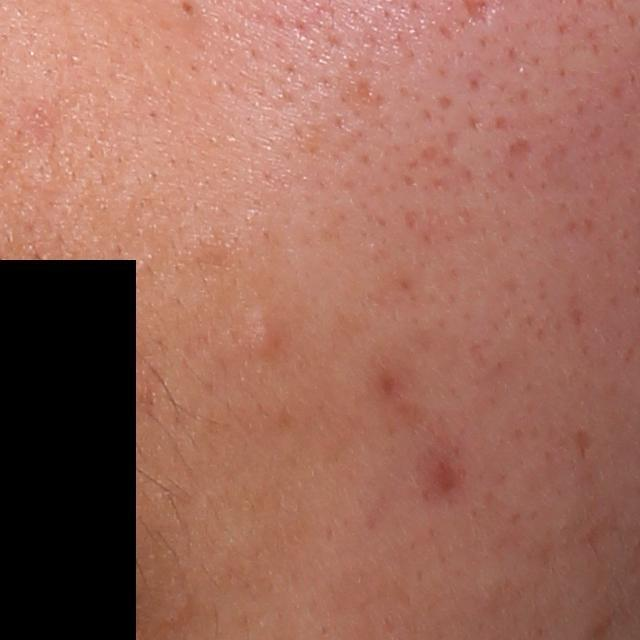atrophic_scar: (506, 137, 540, 164)
